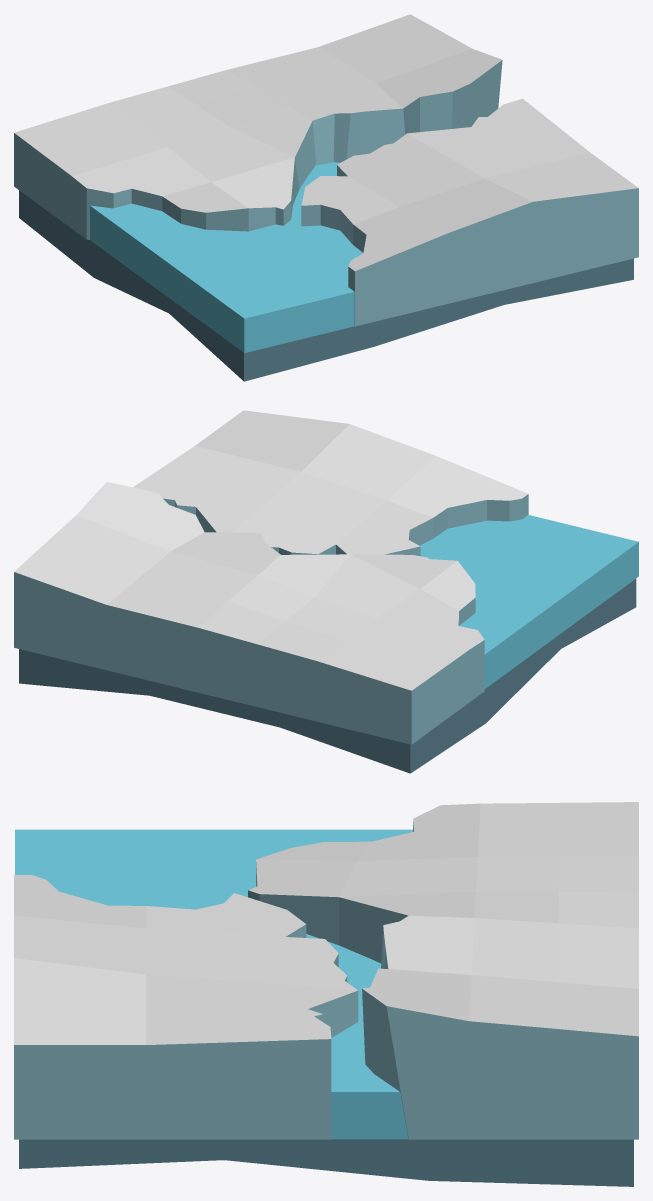
The model's file is world-ice.fbx.
The picture shows the model from 3 angles, top to bottom: view 1: azimuth 30°, elevation 25°; view 2: azimuth 150°, elevation 25°; view 3: azimuth 270°, elevation 25°; orthographic projection. The views are drawn at different scales.
Visible parts, largest first — view 1: nature_artic_terrain, nature_artic_terrain_water; view 2: nature_artic_terrain, nature_artic_terrain_water; view 3: nature_artic_terrain, nature_artic_terrain_water.
Part boxes in pixels (bbox=[...]): nature_artic_terrain: bbox=[14, 14, 638, 381]; nature_artic_terrain_water: bbox=[90, 162, 362, 352]; nature_artic_terrain: bbox=[14, 410, 636, 773]; nature_artic_terrain_water: bbox=[420, 515, 638, 688]; nature_artic_terrain: bbox=[14, 802, 638, 1186]; nature_artic_terrain_water: bbox=[15, 829, 412, 1139].
Bounding box in the file's own units: 20 × 20 × 6.46.
